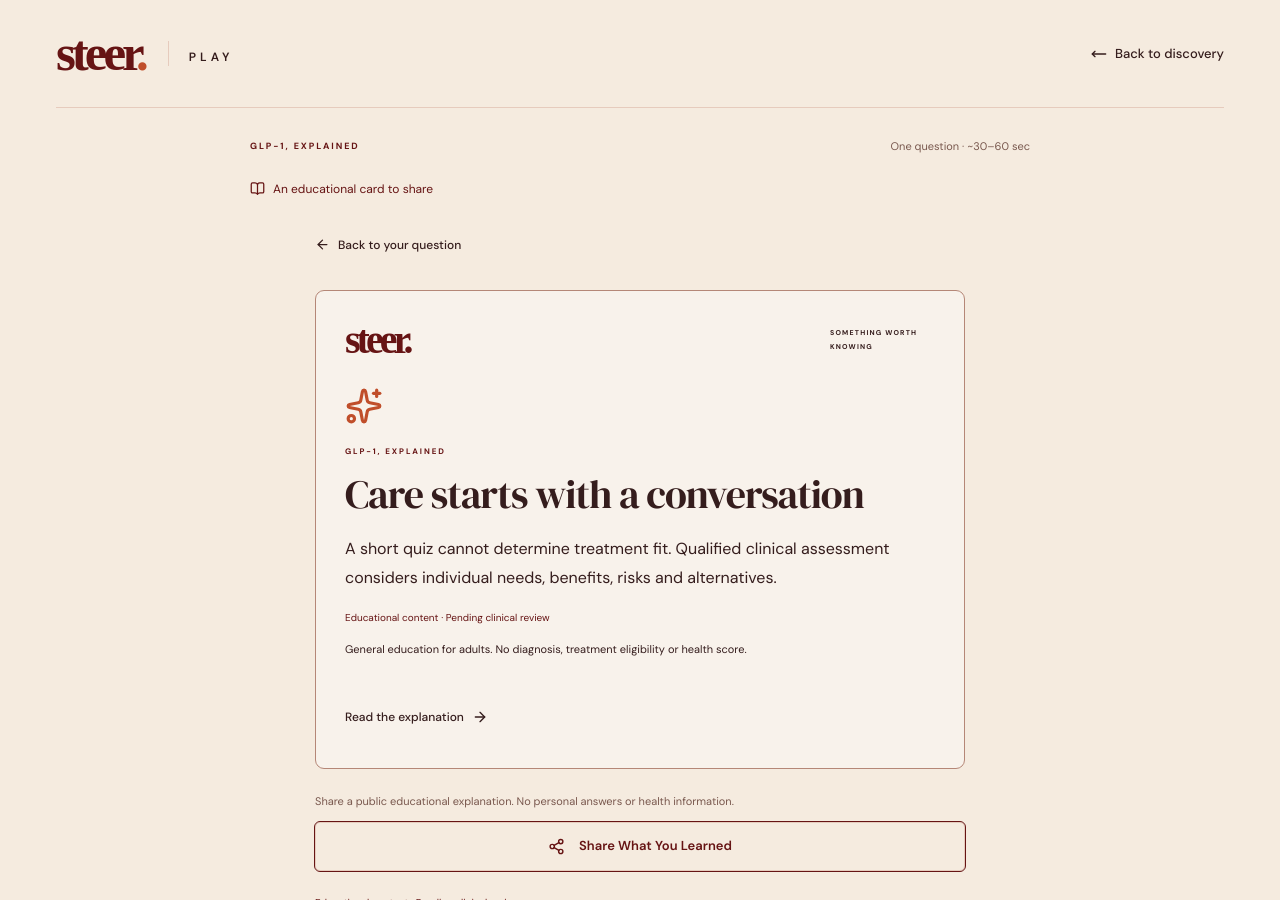
GLP-1 educational journeys › keeps a cancelled native share private and does not record success or copying
Step 1. Click the button "Share What You Learned" → click(640, 846), box x1=315 y1=822 x2=965 y2=871
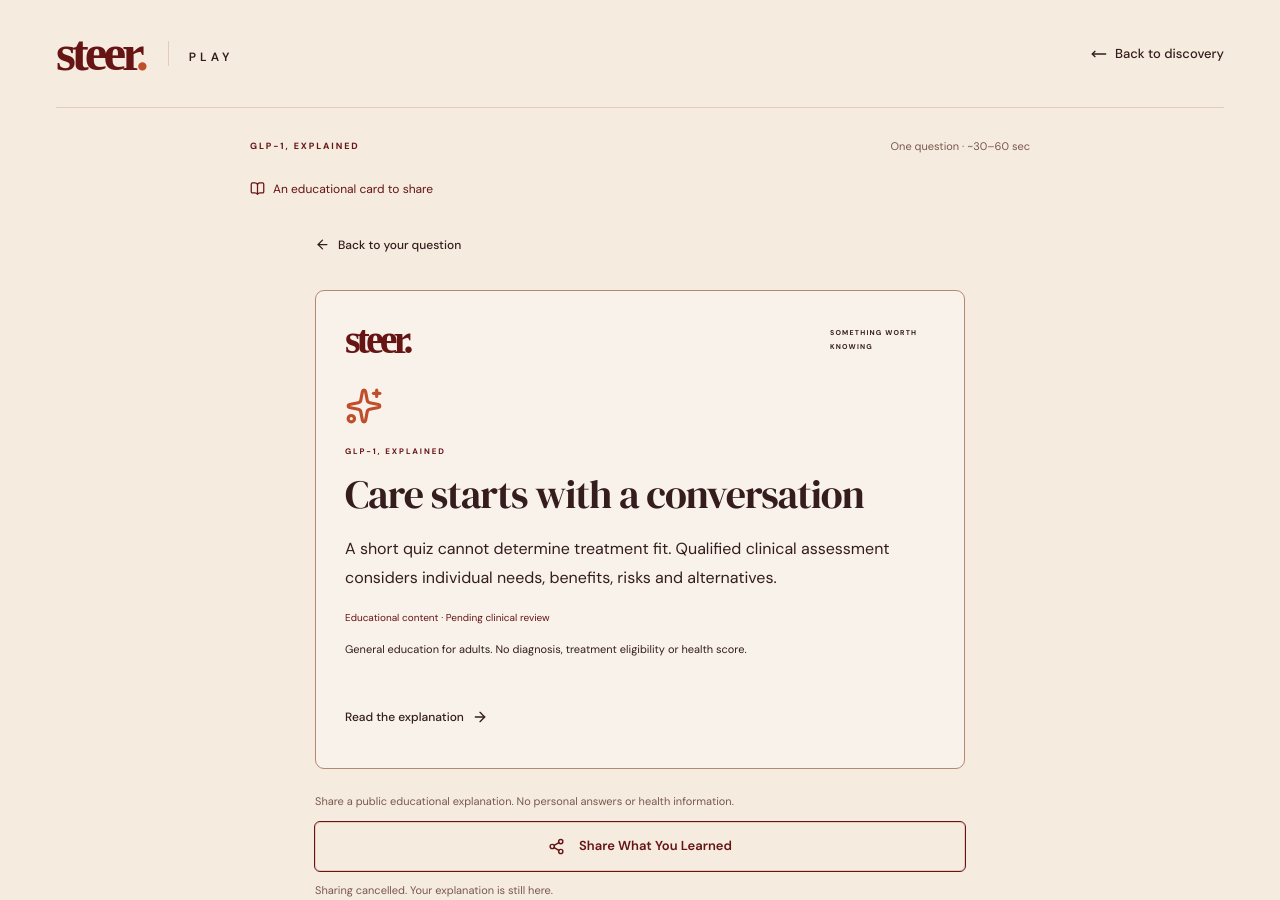
Check: the message reads "Sharing cancelled. Your explanation is still here.", box x1=315 y1=883 x2=553 y2=897
